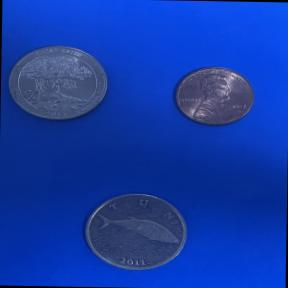coin: (78, 188, 194, 276), (3, 40, 113, 128), (169, 62, 261, 132)
